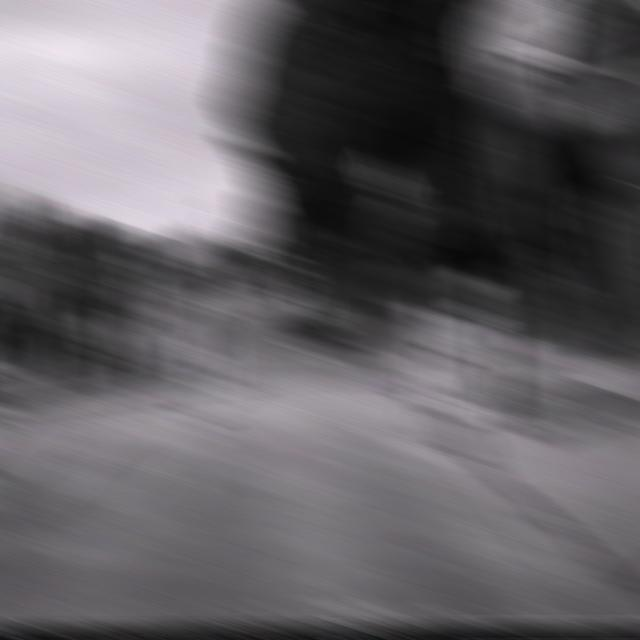noRightTurn: (419, 332, 473, 402)
pedestrianCrossing: (362, 150, 406, 204)
